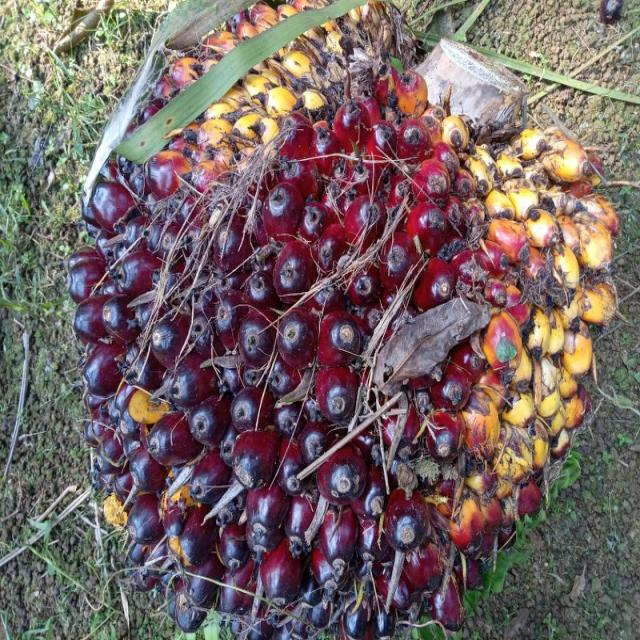fraksi 1: (50, 26, 639, 640)
